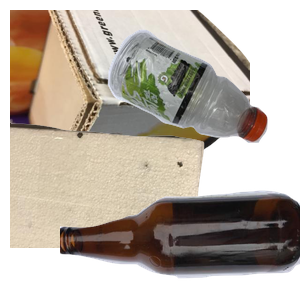cardboard: (10, 10, 250, 190)
glass: (60, 188, 300, 300)
plastic: (105, 27, 300, 162)
trash: (10, 120, 207, 300)
